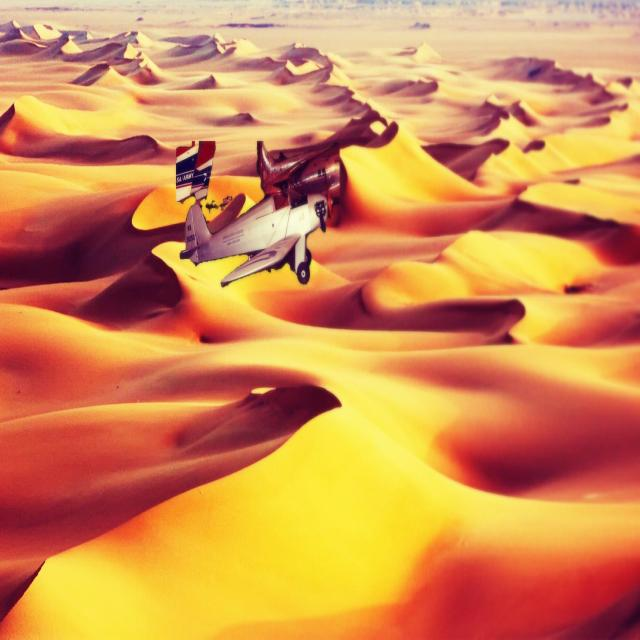airplane: (179, 187, 335, 288), (255, 140, 340, 194)
